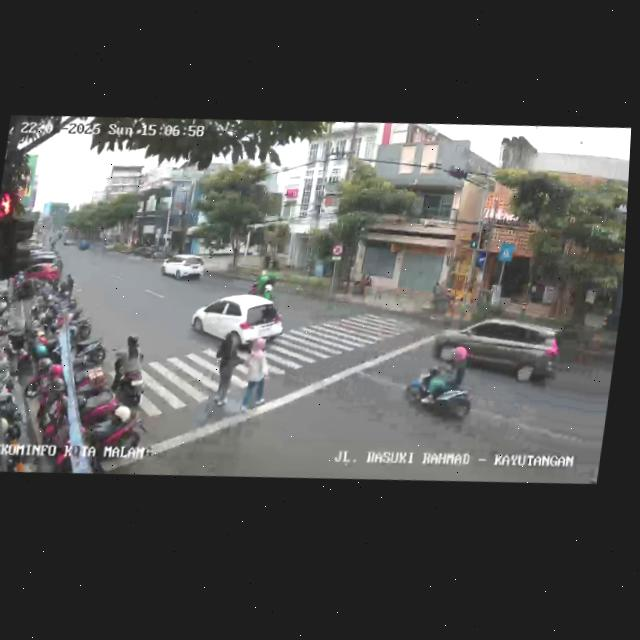car: (432, 305, 565, 393), (187, 285, 286, 360), (21, 244, 66, 288), (159, 249, 206, 285)
motorcycle: (403, 346, 480, 433), (109, 333, 151, 408), (255, 268, 279, 299), (55, 267, 77, 300)
person: (205, 331, 246, 416), (237, 336, 275, 418)
